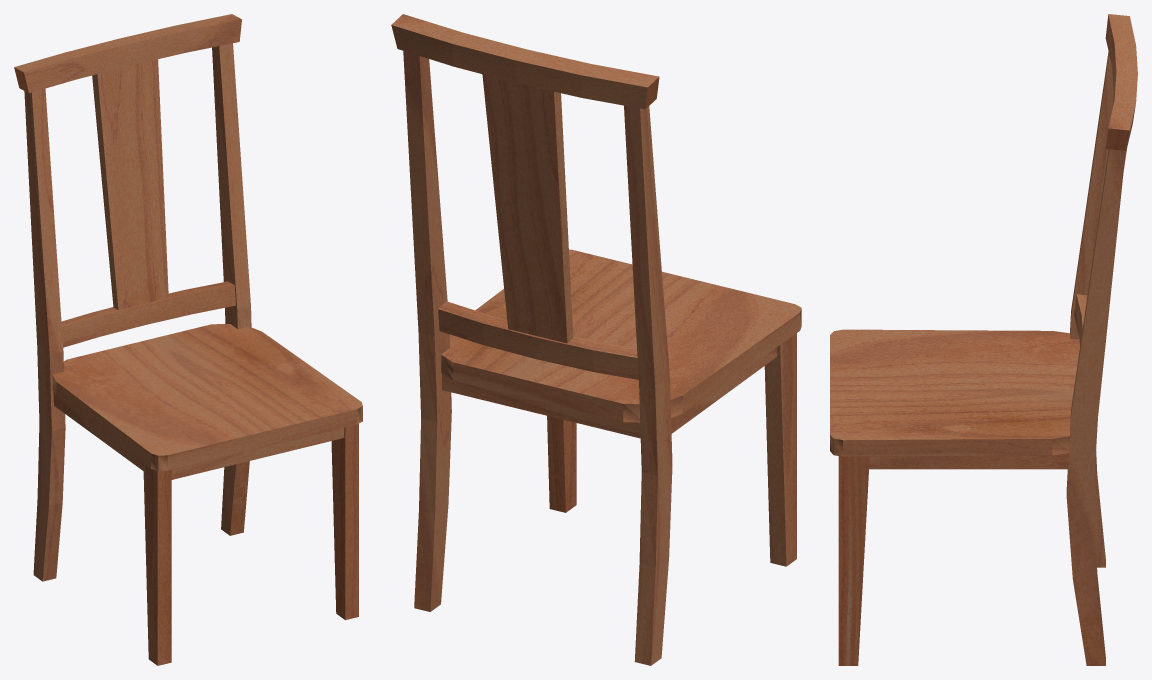
File: chair_01.obj
3 views of the same model, side by side, from view 1: azimuth 30°, elevation 25°; view 2: azimuth 150°, elevation 25°; view 3: azimuth 270°, elevation 25° (orthographic). The views are drawn at different scales.
Parts seen in each view (by area): view 1: chair_01; view 2: chair_01; view 3: chair_01.
Boxes of the visible parts, x1,y1,x2,y2 form: chair_01: [14, 14, 362, 665]; chair_01: [391, 14, 801, 665]; chair_01: [830, 14, 1137, 665].
Bounding box in the file's own units: 0.4005 × 0.8842 × 0.4554.
Materials: 1 (1 with a texture image).
